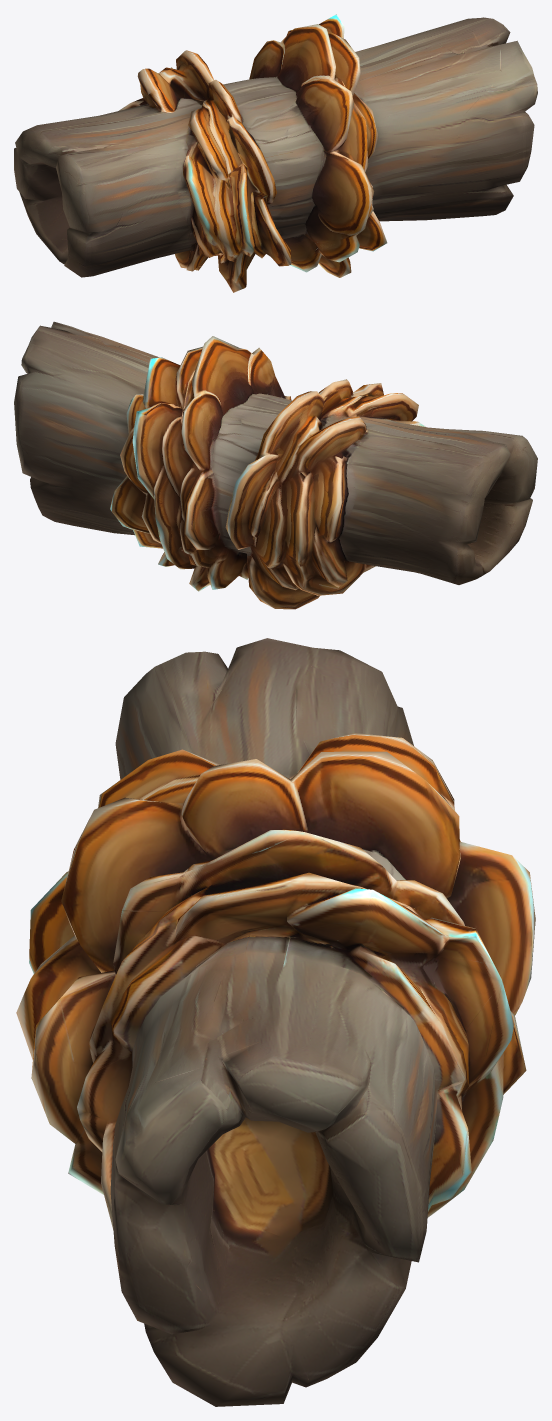
The picture shows the model from 3 angles, top to bottom: view 1: azimuth 30°, elevation 25°; view 2: azimuth 150°, elevation 25°; view 3: azimuth 270°, elevation 25°; orthographic projection. The views are drawn at different scales.
Parts seen in each view (by area): view 1: Mesh_0; view 2: Mesh_0; view 3: Mesh_0.
Boxes of the visible parts, <box> form: Mesh_0: <box>14,14,537,292</box>; Mesh_0: <box>14,321,537,609</box>; Mesh_0: <box>16,638,535,1406</box>.
Bounding box in the file's own units: 1.91 × 0.9404 × 0.9194.
Materials: 1 (1 with a texture image).
